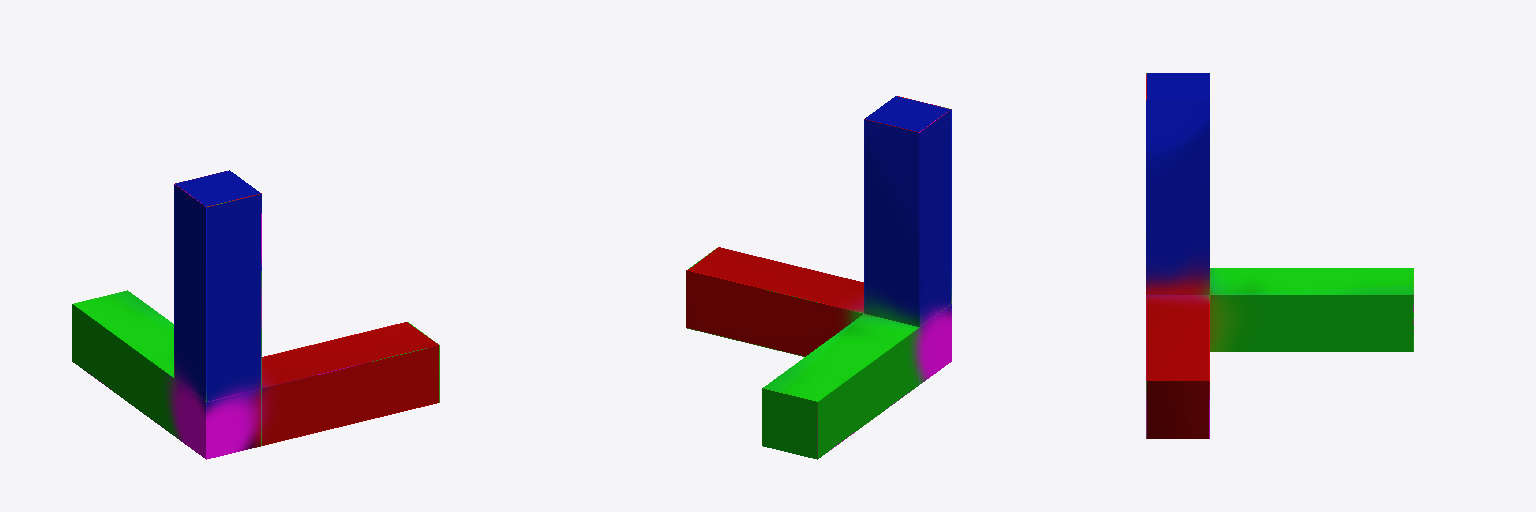
3 views of the same model, side by side, from view 1: azimuth 30°, elevation 25°; view 2: azimuth 150°, elevation 25°; view 3: azimuth 270°, elevation 25° (orthographic).
Parts seen in each view (by area): view 1: Cube_Cube.001; view 2: Cube_Cube.001; view 3: Cube_Cube.001.
Part boxes in pixels (left/top/right/bottom): Cube_Cube.001: left=72, top=170, right=439, bottom=459; Cube_Cube.001: left=686, top=96, right=951, bottom=459; Cube_Cube.001: left=1146, top=73, right=1413, bottom=438.
Size of the model in its own units: 1.08 by 1.11 by 1.07.
1 materials, 1 textured.